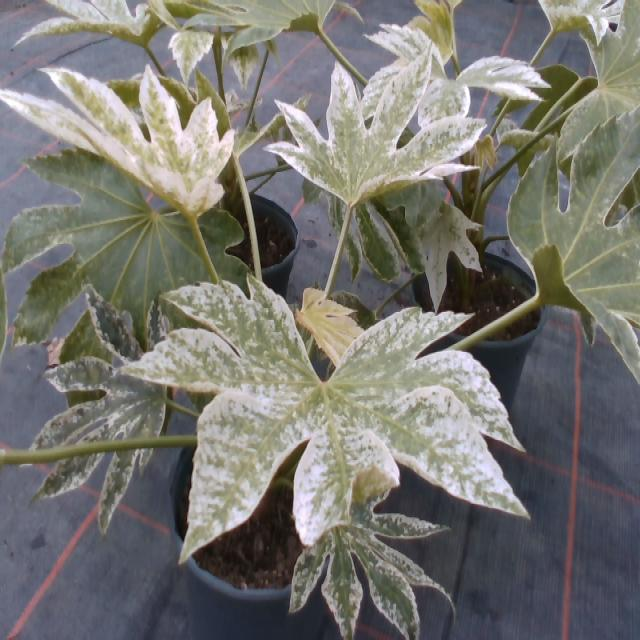Fatsia-japonica: (145, 241, 529, 553), (2, 149, 264, 380), (19, 281, 184, 538), (257, 43, 477, 215), (0, 58, 236, 218), (508, 104, 639, 388), (285, 497, 465, 640), (318, 179, 431, 297), (284, 274, 374, 377), (10, 0, 162, 59), (176, 0, 355, 50), (408, 194, 479, 314), (222, 95, 310, 178), (367, 10, 453, 86), (458, 48, 550, 113), (414, 72, 485, 148), (533, 0, 616, 44), (168, 23, 213, 93), (218, 29, 261, 95)
